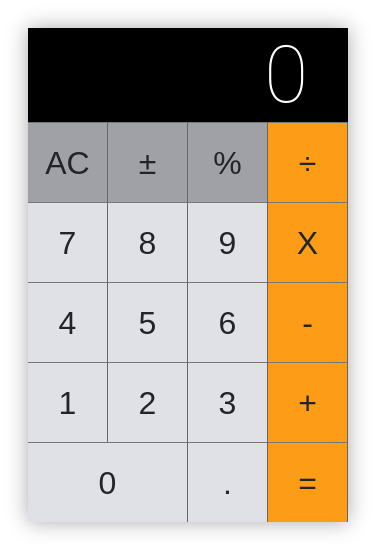
Test: Subtracts one number from another
Click the button "5" at (148, 322), box [108,282,188,362]
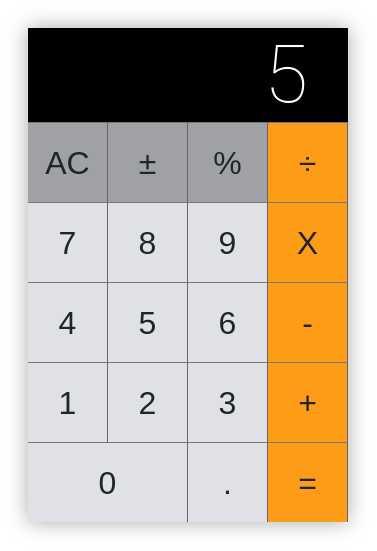
Click the button "-" at (308, 322), box [268,282,348,362]
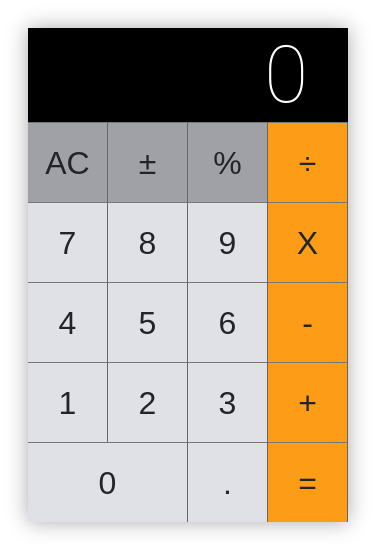
Click the button "8" at (148, 242), box [108,202,188,282]
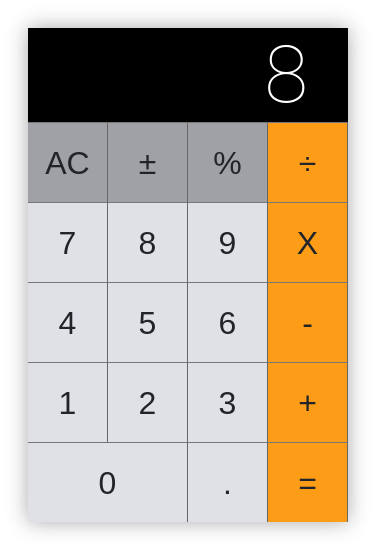
Click the button "=" at (308, 482), box [268,442,348,522]
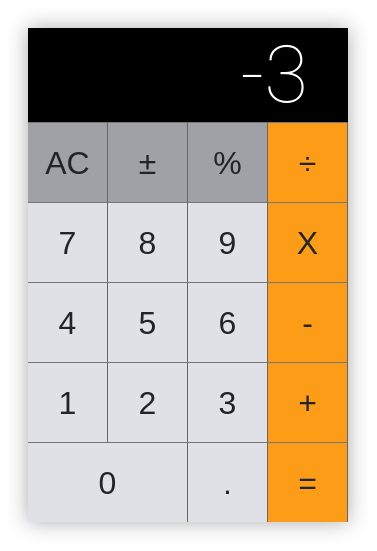
Check: the element with class "calc-screen" reads "-3", box [240,28,308,122]
